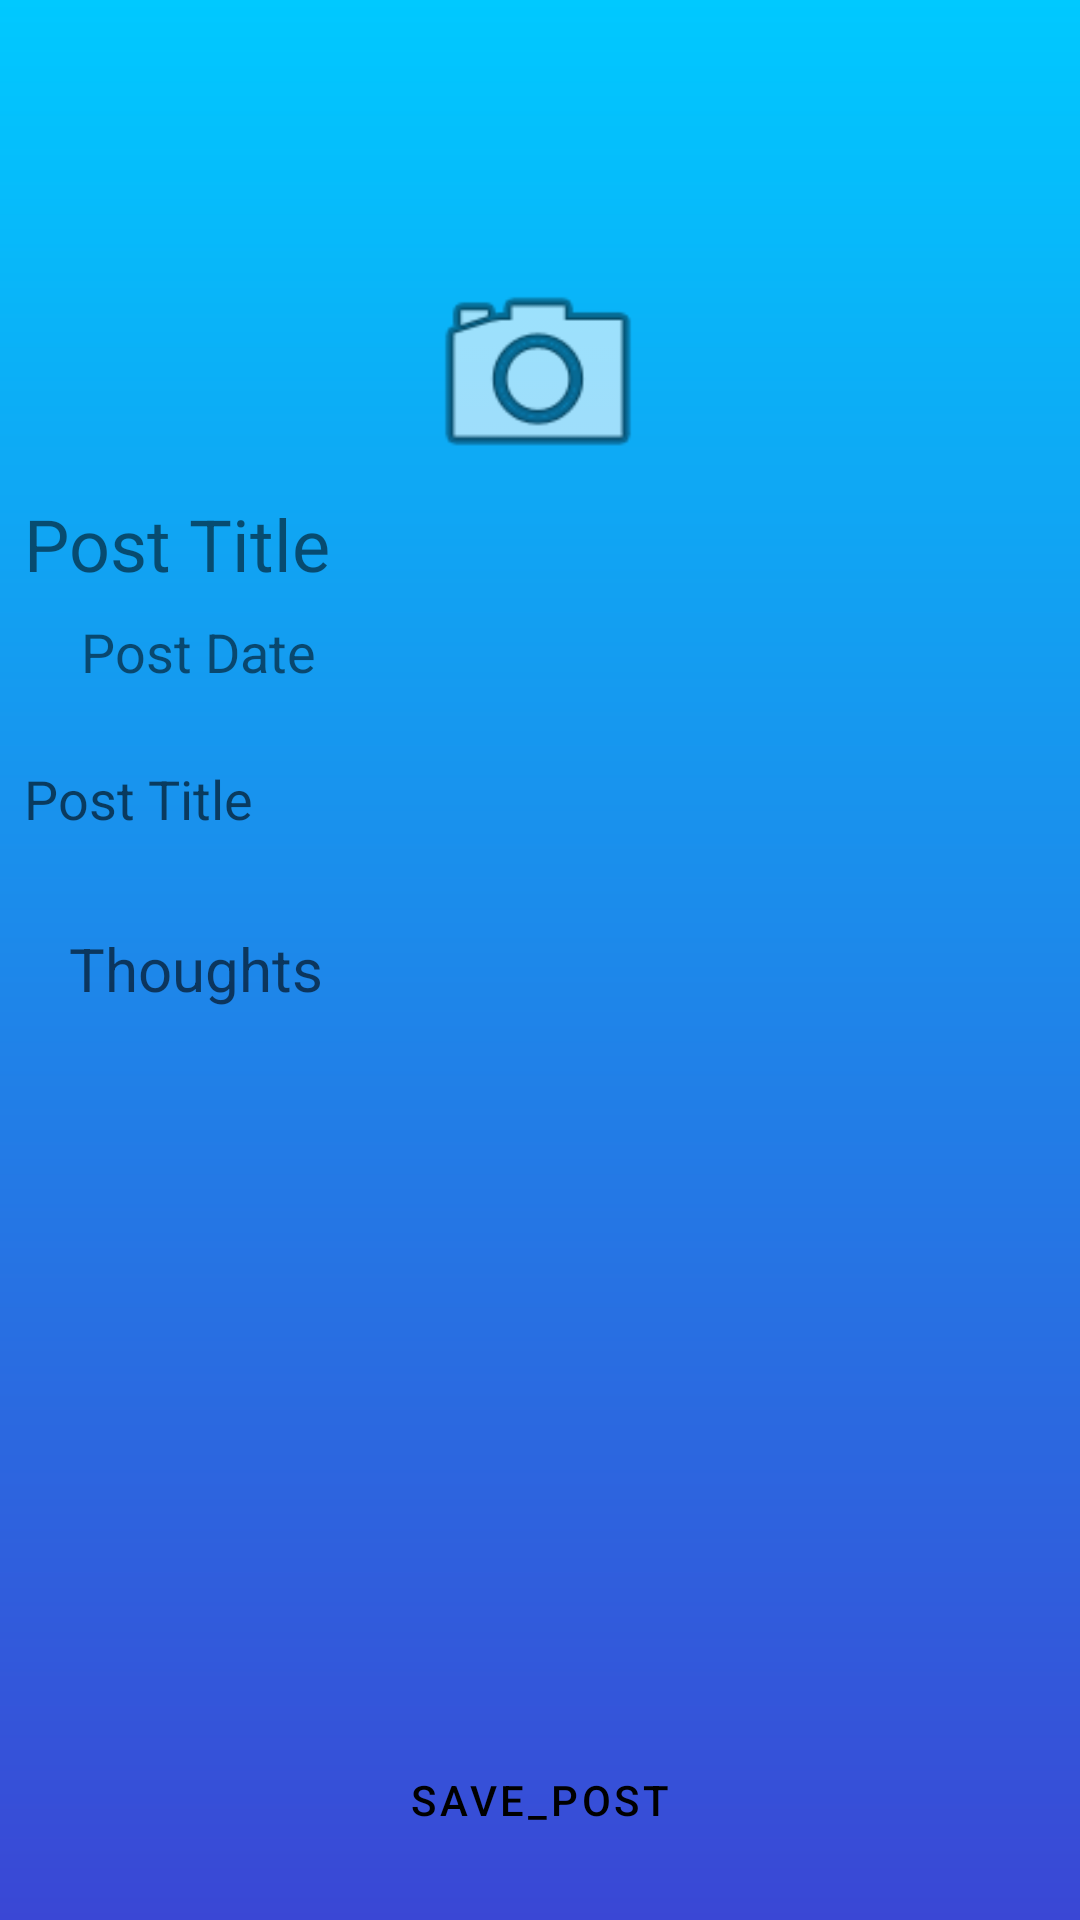

Where icons sit on this 1080×1920 app screen, as {"left": x1, "top": y1, "right": x2, "bottom": y2}:
camera: {"left": 445, "top": 297, "right": 631, "bottom": 445}
